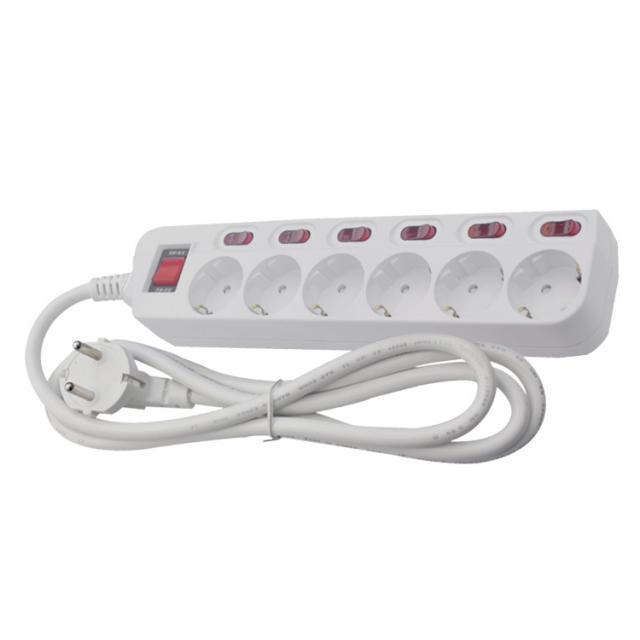typeb: (121, 216, 624, 361)
